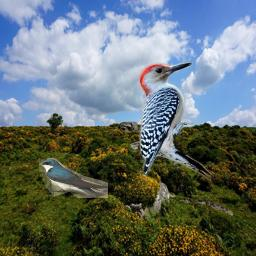Swallow: (39, 158, 108, 198)
Woodpecker: (132, 57, 218, 186)
